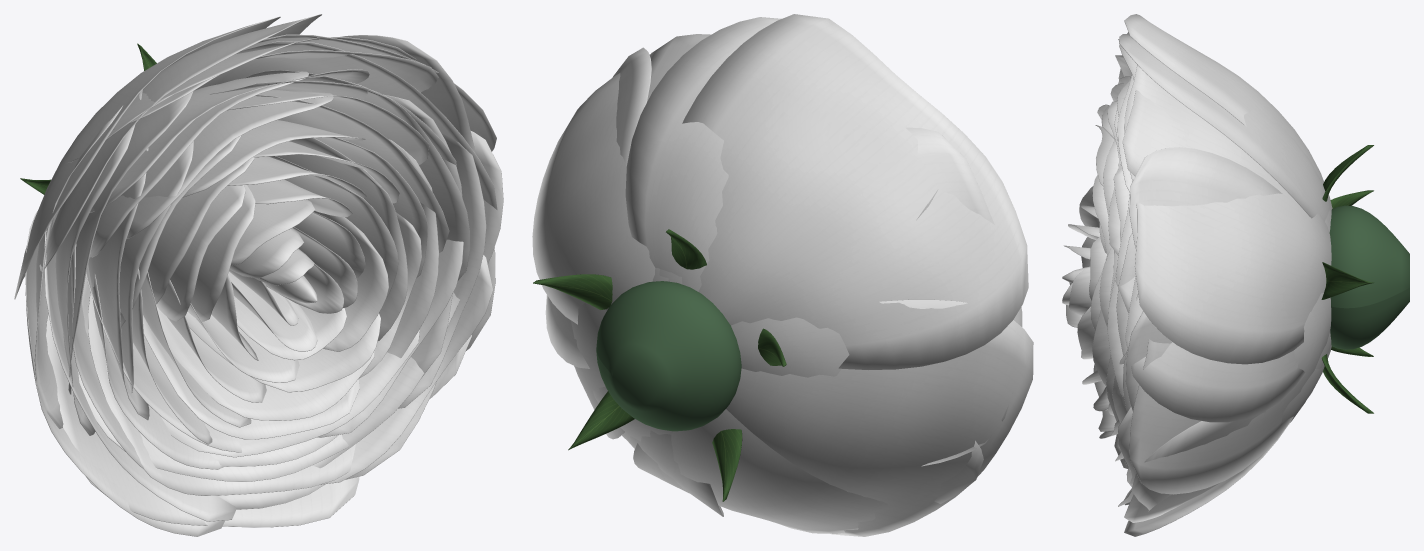
The model's file is rose-3-balanced.glb.
3 renders of one model, left to right at view 1: azimuth 30°, elevation 25°; view 2: azimuth 150°, elevation 25°; view 3: azimuth 270°, elevation 25°, orthographic. The views are drawn at different scales.
Visible parts, largest first — view 1: Rose_3_balanced_Petals; view 2: Rose_3_balanced_Petals, Rose_3_balanced_Receptacle, Rose_3_balanced_Sepals; view 3: Rose_3_balanced_Petals, Rose_3_balanced_Receptacle, Rose_3_balanced_Sepals.
Boxes of the visible parts, bbox=[...] form: Rose_3_balanced_Petals: bbox=[14, 14, 503, 536]; Rose_3_balanced_Petals: bbox=[532, 14, 1033, 536]; Rose_3_balanced_Receptacle: bbox=[596, 281, 741, 431]; Rose_3_balanced_Sepals: bbox=[533, 229, 786, 501]; Rose_3_balanced_Petals: bbox=[1062, 14, 1332, 536]; Rose_3_balanced_Receptacle: bbox=[1329, 205, 1409, 349]; Rose_3_balanced_Sepals: bbox=[1321, 145, 1373, 413].
Size of the model in its own units: 0.7396 by 0.7625 by 0.5051.
Materials: 3 (2 with a texture image).
